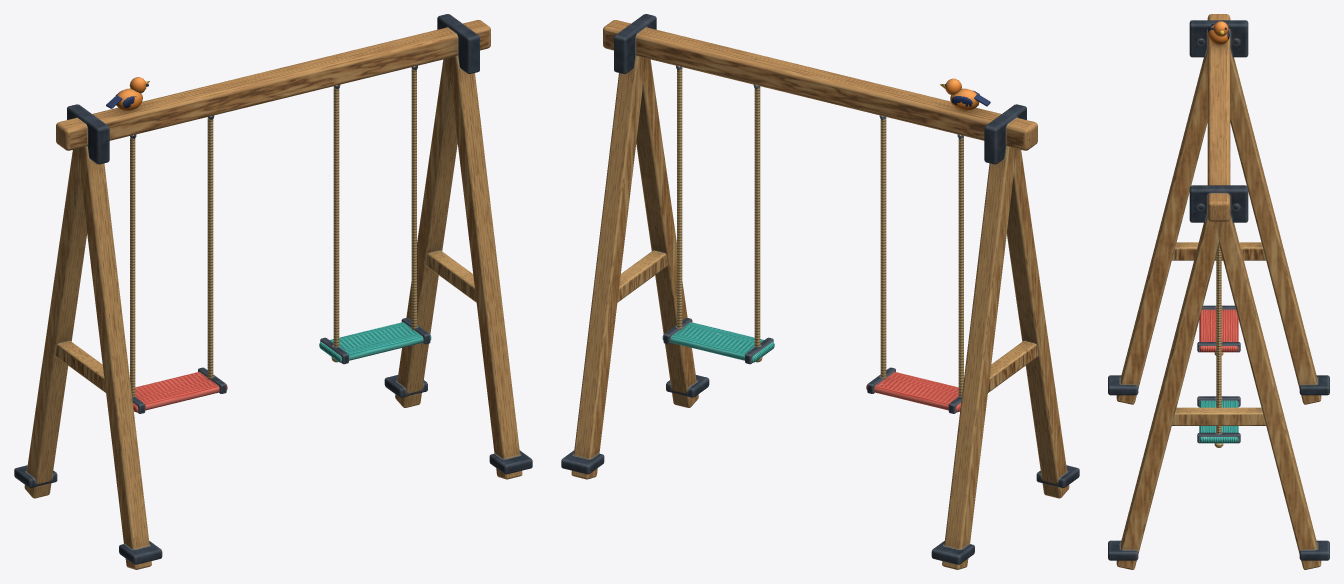
The model's file is swing-set.fbx.
3 views of the same model, side by side, from view 1: azimuth 30°, elevation 25°; view 2: azimuth 150°, elevation 25°; view 3: azimuth 270°, elevation 25° (orthographic). The views are drawn at different scales.
Parts seen in each view (by area): view 1: Body, Anim Sway.001, Anim Sway, Anim Bob; view 2: Body, Anim Sway.001, Anim Sway, Anim Bob; view 3: Body, Anim Sway.001, Anim Sway, Anim Bob.
Boxes of the visible parts, x1,y1,x2,y2 form: Body: (14, 14, 532, 569); Anim Sway.001: (319, 68, 431, 364); Anim Sway: (130, 117, 227, 413); Anim Bob: (106, 77, 149, 110); Body: (561, 14, 1079, 569); Anim Sway.001: (662, 68, 774, 364); Anim Sway: (866, 117, 963, 413); Anim Bob: (940, 78, 990, 110); Body: (1108, 14, 1329, 569); Anim Sway.001: (1197, 245, 1240, 447); Anim Sway: (1197, 305, 1240, 355); Anim Bob: (1208, 21, 1229, 44).
Size of the model in its own units: 2.3 by 2.27 by 1.13.
